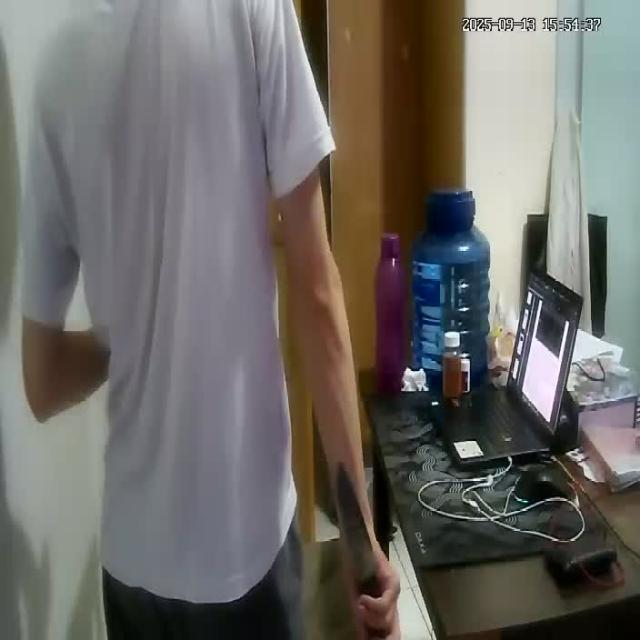senjata_tajam: (336, 454, 382, 592)
